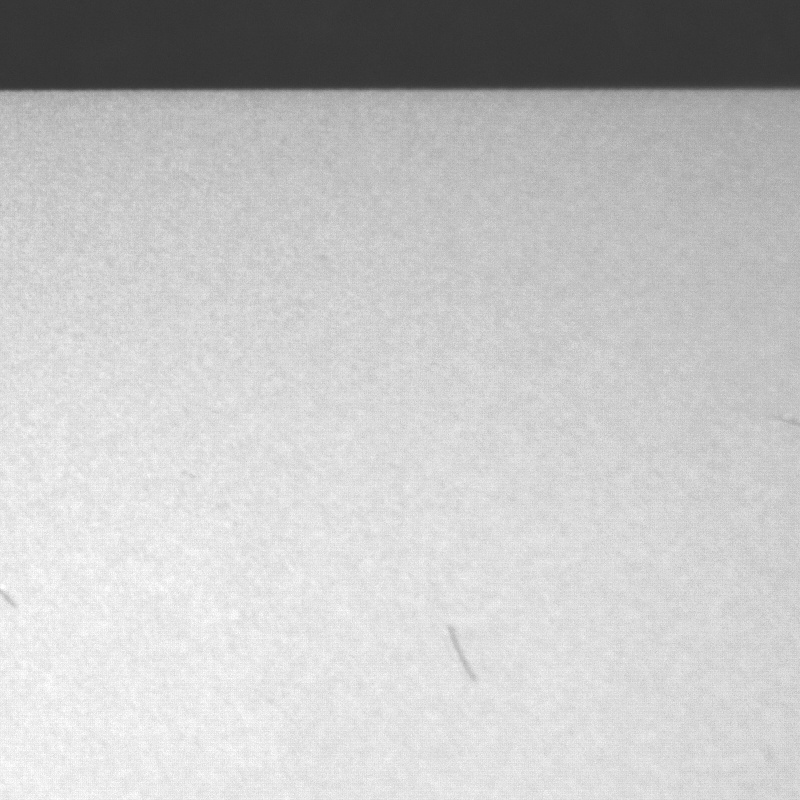defect: (444, 624, 479, 687), (1, 584, 18, 615)
